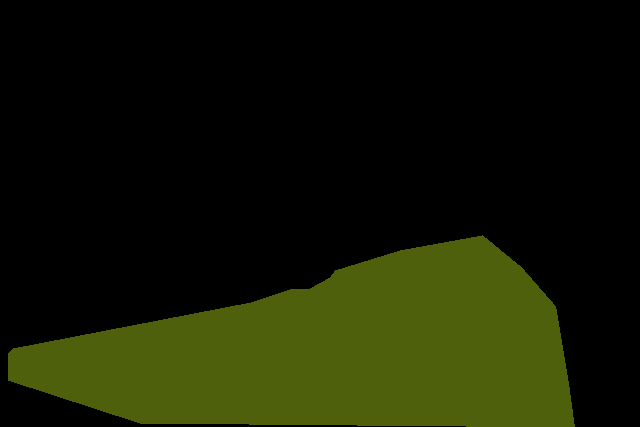Train: (8, 235, 575, 427)
